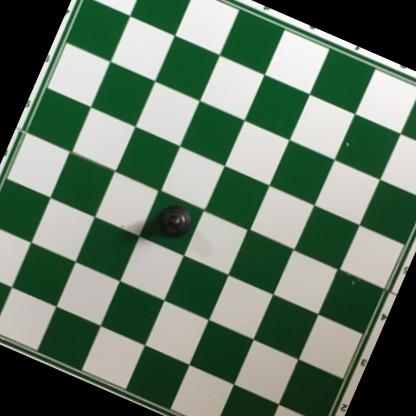black-pawn: (150, 198, 197, 246)
